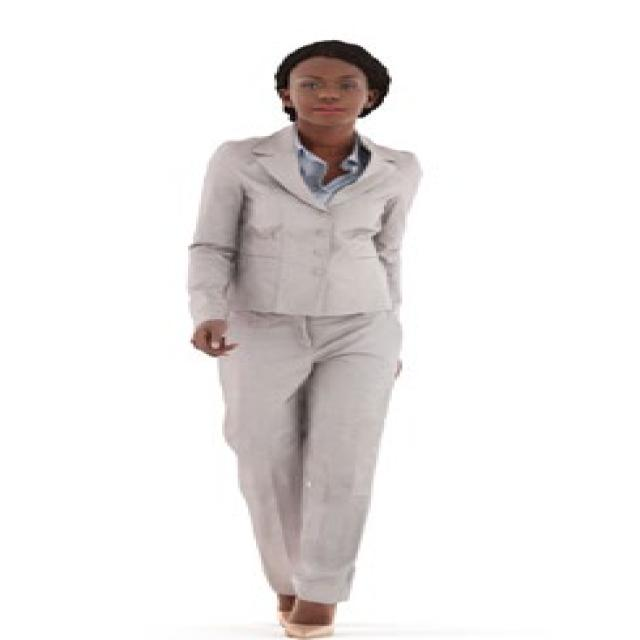standing: (179, 36, 427, 640)
